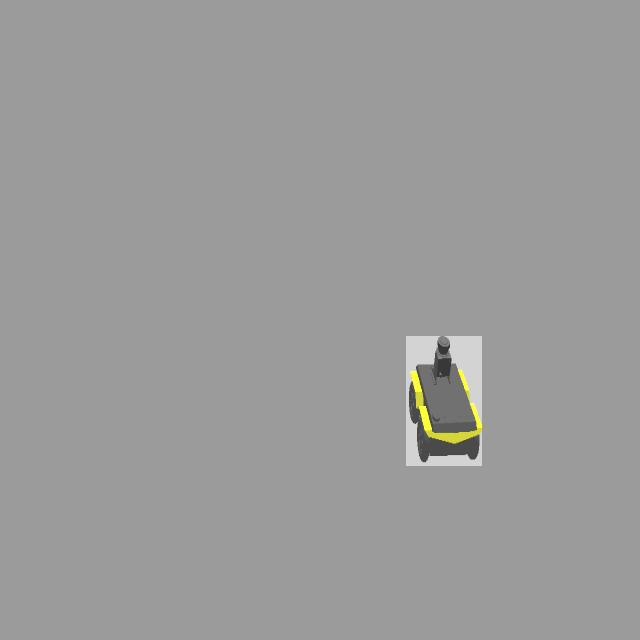jackal: (406, 336, 482, 466)
